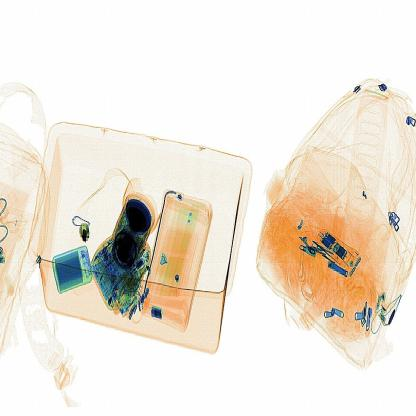wrench: (68, 216, 100, 242)
